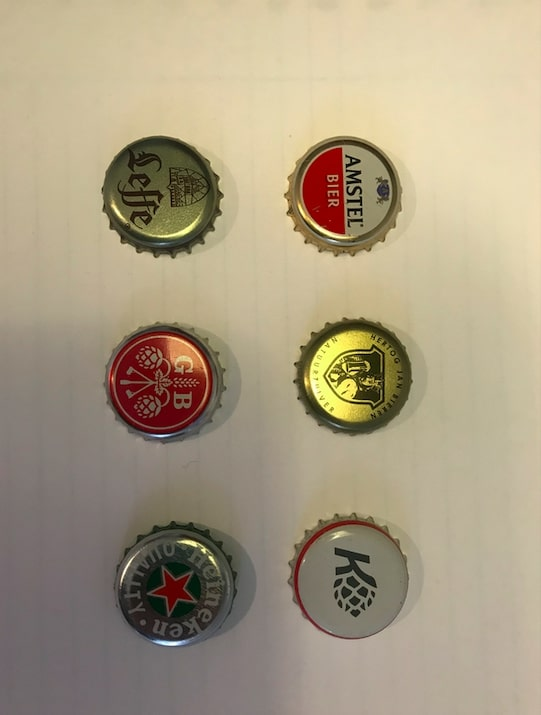amstel: (283, 135, 404, 260)
heineken: (110, 519, 242, 653)
hertog jan: (101, 319, 228, 448), (294, 316, 413, 438)
kornuit: (286, 513, 410, 641)
leffe: (100, 134, 227, 260)
